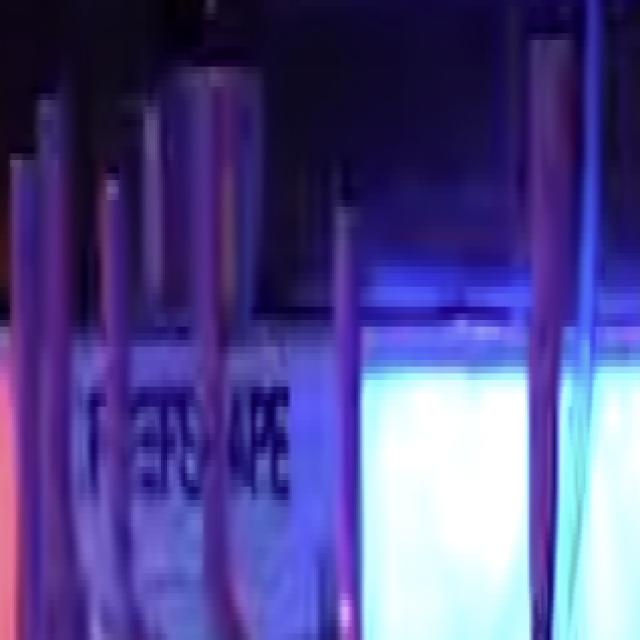Reef: (42, 101, 68, 552), (534, 39, 557, 536), (12, 163, 40, 556), (201, 79, 223, 507), (104, 183, 126, 558), (336, 200, 358, 553)
